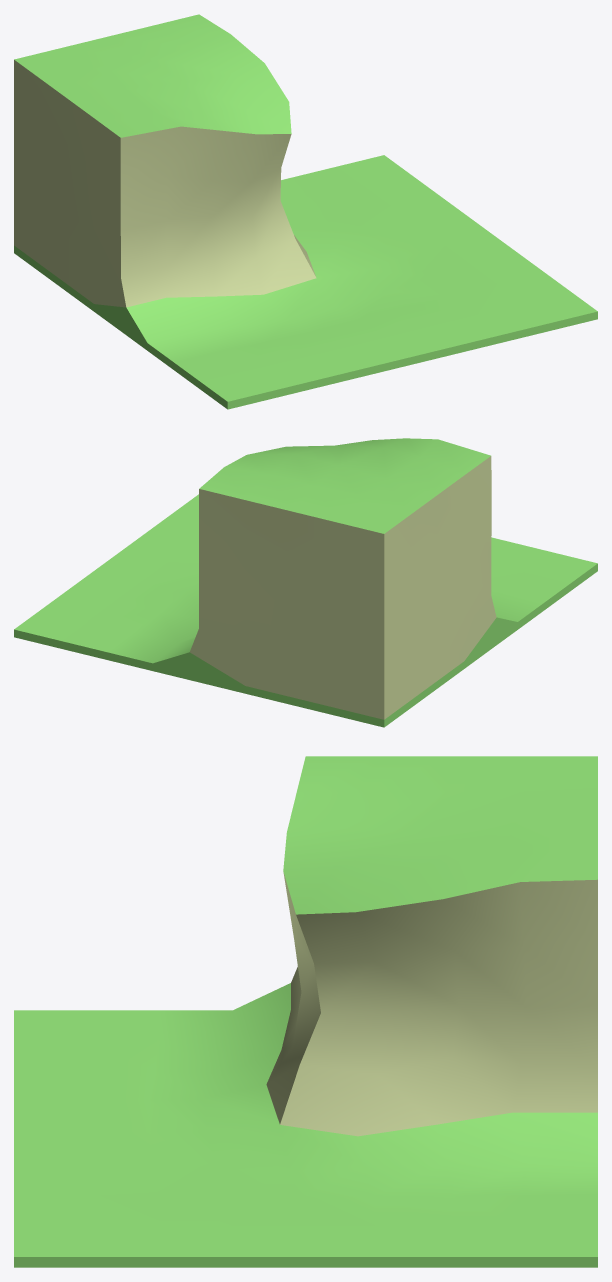
File: wall_concave_1.glb
3 renders of one model, top to bottom at view 1: azimuth 30°, elevation 25°; view 2: azimuth 150°, elevation 25°; view 3: azimuth 270°, elevation 25°, orthographic. The views are drawn at different scales.
Parts seen in each view (by area): view 1: wall_concave_1; view 2: wall_concave_1; view 3: wall_concave_1.
Boxes of the visible parts, x1=… form: wall_concave_1: x1=14, y1=14, x2=597, y2=409; wall_concave_1: x1=14, y1=438, x2=597, y2=727; wall_concave_1: x1=14, y1=756, x2=597, y2=1267.
Bounding box in the file's own units: 2 × 0.9995 × 2.
